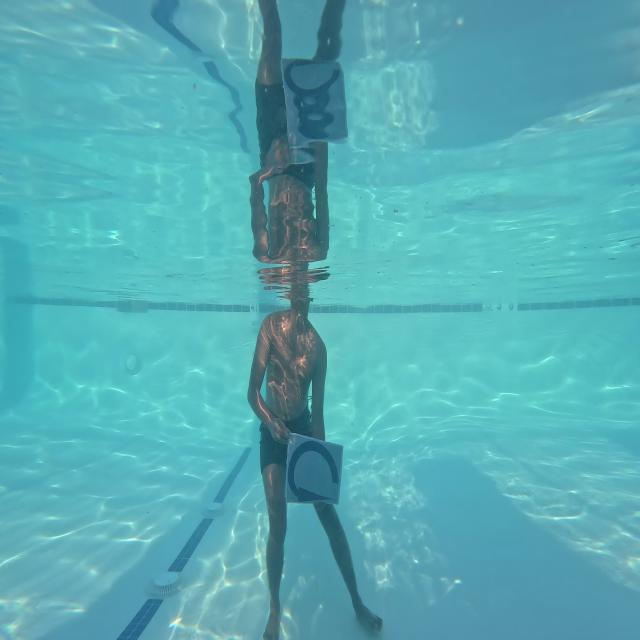blue_side: (285, 434, 343, 506)
